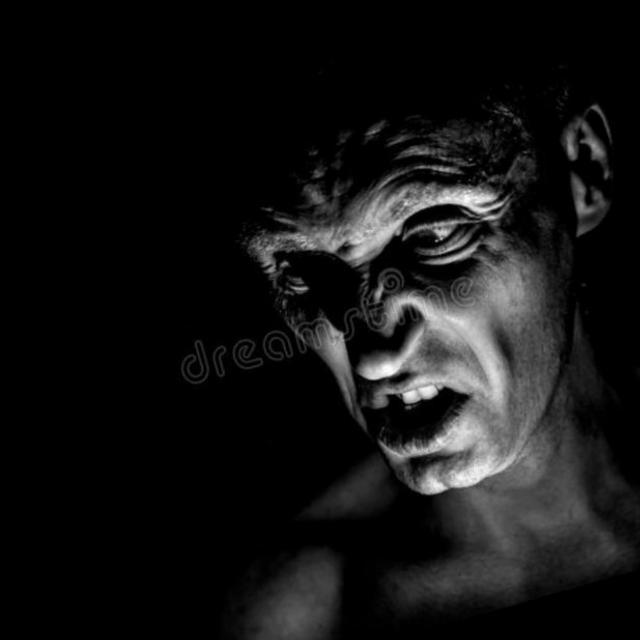angry: (124, 59, 640, 587)
